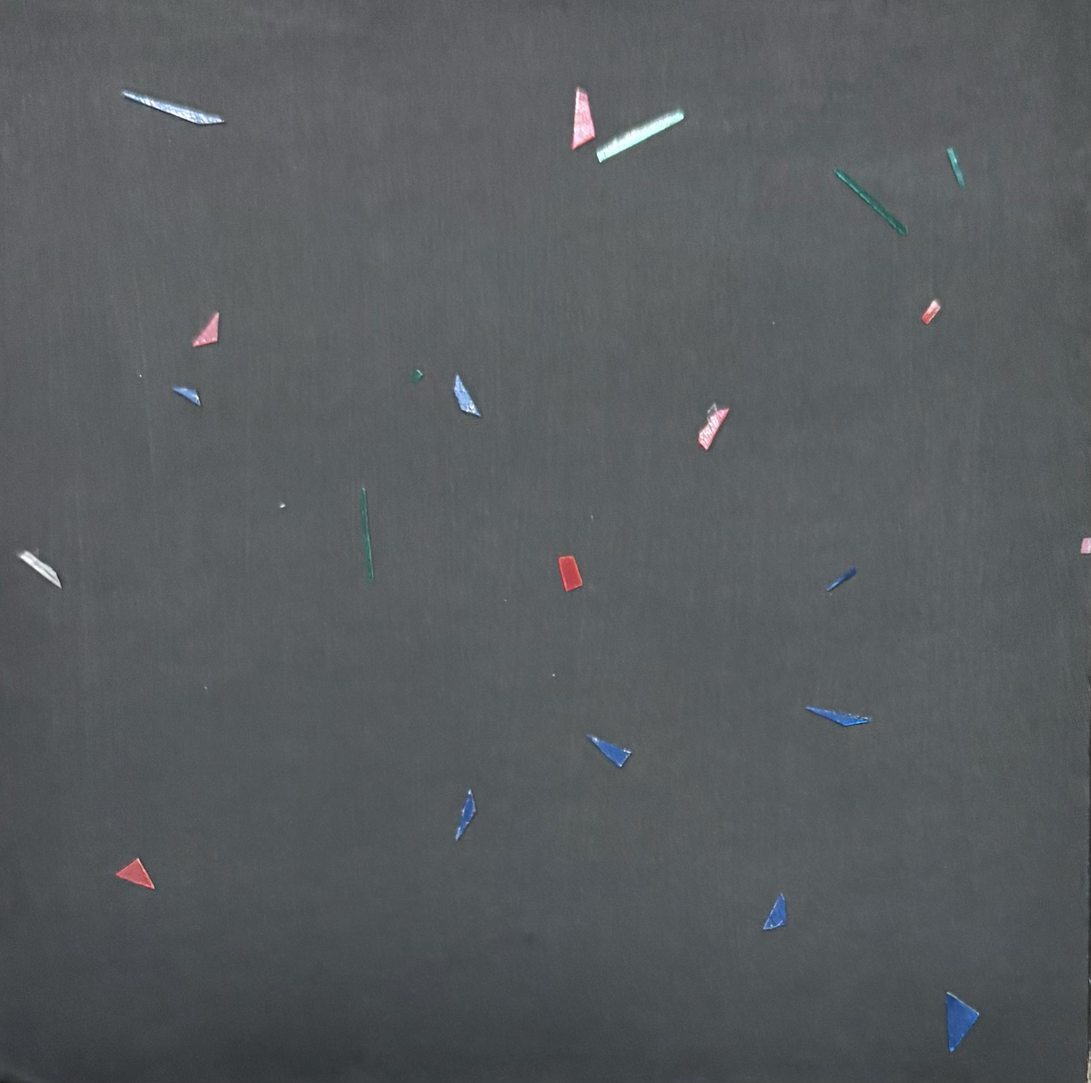Microplastic Particle: (832, 167, 908, 237), (595, 105, 686, 163), (121, 88, 227, 128), (449, 761, 495, 852), (585, 723, 635, 773), (945, 989, 981, 1053), (358, 477, 377, 587), (804, 700, 873, 728), (15, 550, 63, 590), (570, 81, 597, 150), (114, 851, 159, 892), (452, 366, 484, 421), (697, 401, 731, 451), (762, 883, 790, 932), (557, 551, 586, 593), (191, 309, 221, 348), (823, 563, 859, 593), (171, 381, 205, 410), (947, 148, 964, 189), (922, 300, 940, 325), (411, 368, 424, 384), (1080, 537, 1091, 554), (588, 513, 595, 522), (203, 685, 209, 691), (280, 503, 286, 508), (552, 674, 556, 678), (772, 321, 776, 325), (138, 374, 142, 377), (504, 600, 507, 602)
